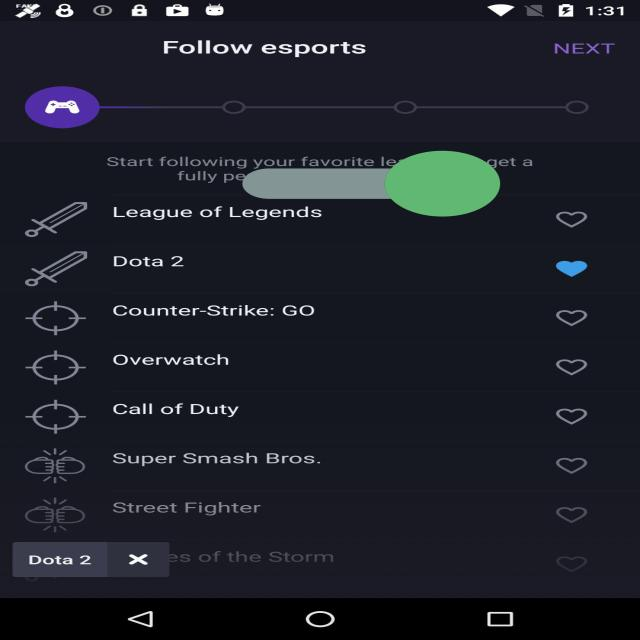social proof: (242, 110, 500, 257)
